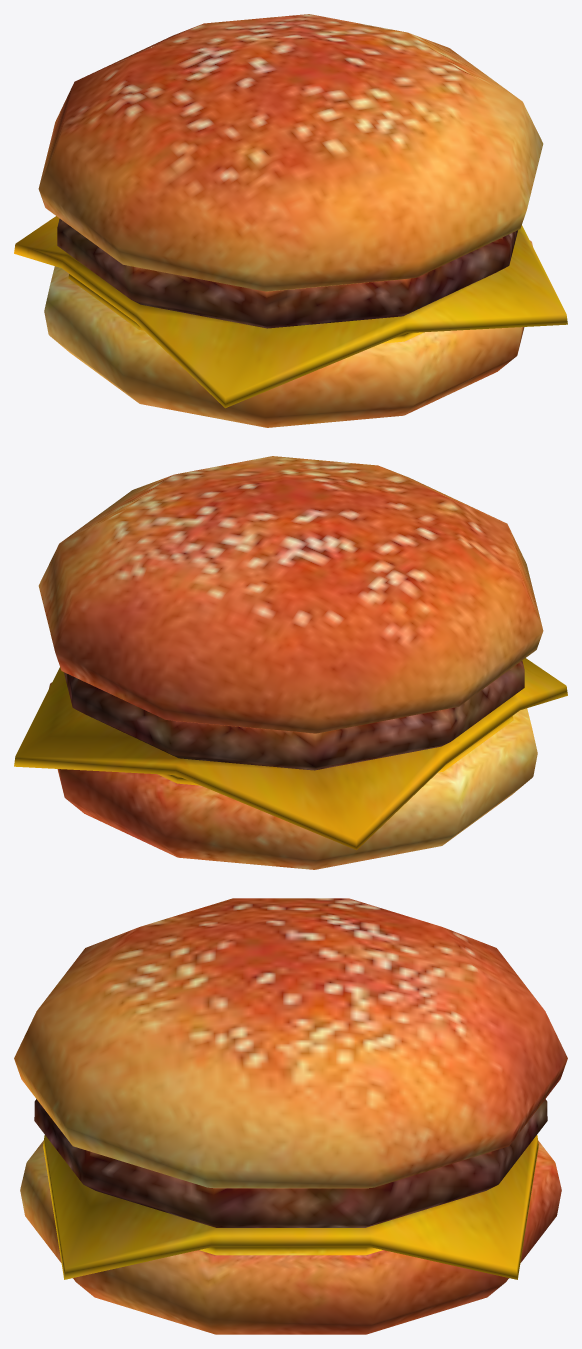
File: CheeseBurger.gltf
The picture shows the model from 3 angles, top to bottom: view 1: azimuth 30°, elevation 25°; view 2: azimuth 150°, elevation 25°; view 3: azimuth 270°, elevation 25°; orthographic projection. The views are drawn at different scales.
Parts seen in each view (by area): view 1: node_FFHP_PRE_Cheeseburger_256_-18152; view 2: node_FFHP_PRE_Cheeseburger_256_-18152; view 3: node_FFHP_PRE_Cheeseburger_256_-18152.
Part boxes in pixels (x1,y1,x2,y2): node_FFHP_PRE_Cheeseburger_256_-18152: (14,14,567,427); node_FFHP_PRE_Cheeseburger_256_-18152: (14,456,567,869); node_FFHP_PRE_Cheeseburger_256_-18152: (14,898,567,1334).
Bounding box in the file's own units: 0.1792 × 0.1083 × 0.1884.
1 material, 1 textured.
